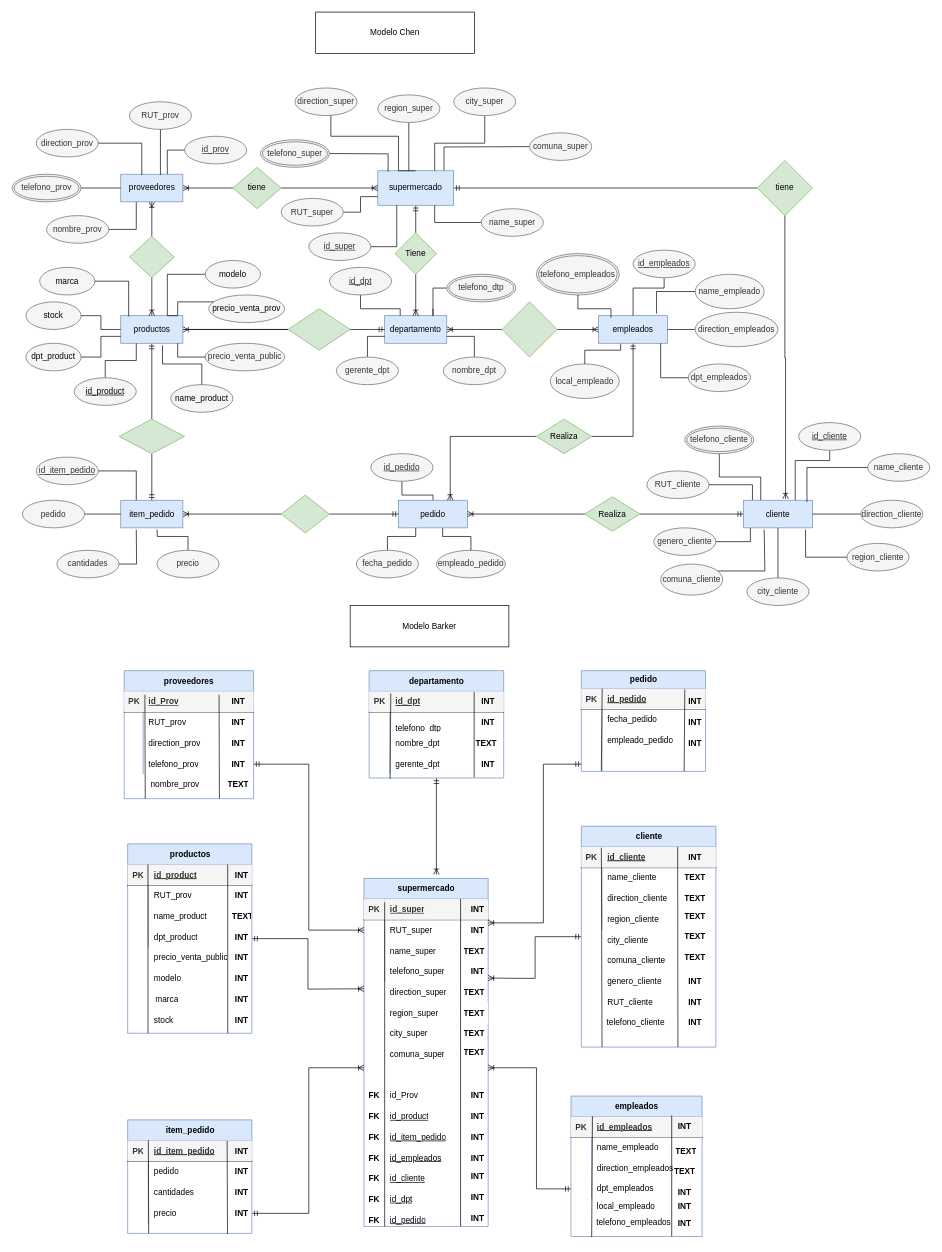
This 942x1252 diagram has some shape labels left out. Each missing label, with the box of its shape:
Contiene: (280, 494, 329, 533)
Está en: (118, 418, 185, 454)
Pertenece a: (287, 308, 350, 350)
Trabaja: (501, 301, 557, 357)
Vende: (129, 236, 174, 278)
